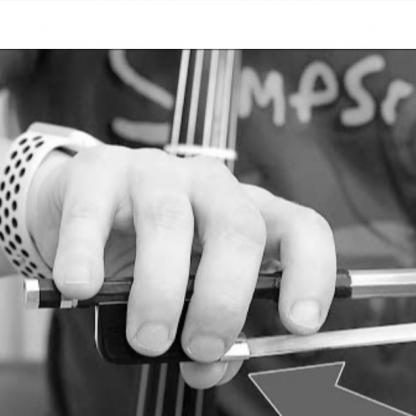good: (54, 128, 348, 388)
